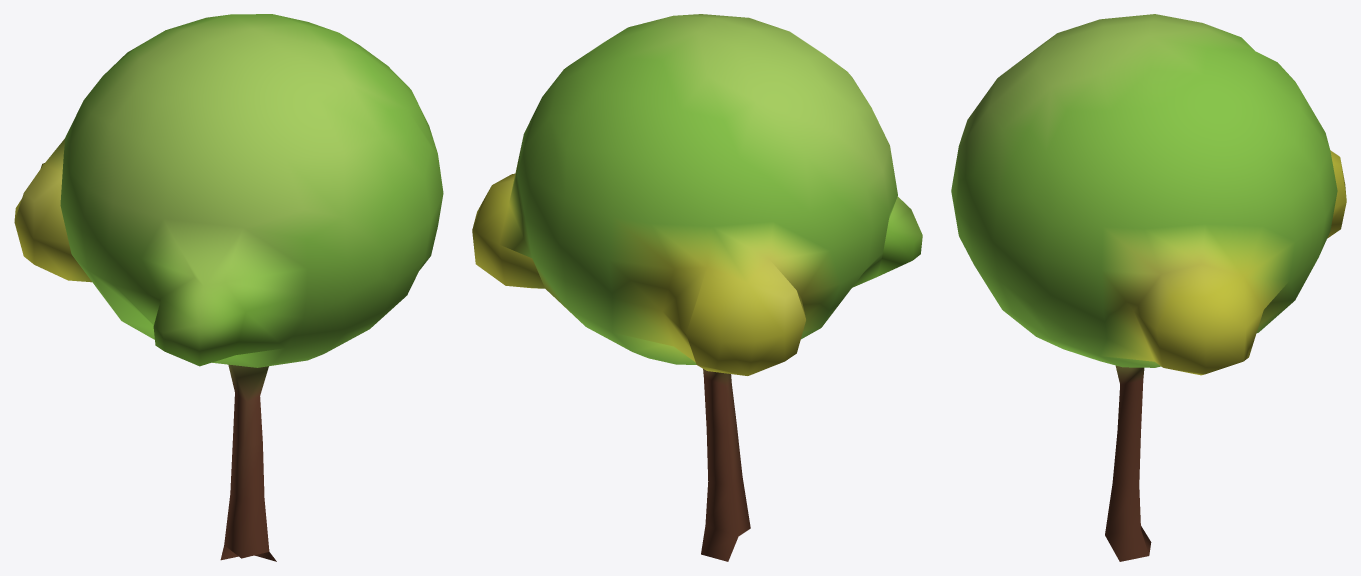
Rendered from lollipop-tree-101-lod3.obj.
3 views of the same model, side by side, from view 1: azimuth 30°, elevation 25°; view 2: azimuth 150°, elevation 25°; view 3: azimuth 270°, elevation 25° (orthographic).
Visible parts, largest first — view 1: simplified; view 2: simplified; view 3: simplified.
Boxes of the visible parts, bbox=[...] form: simplified: bbox=[14, 14, 443, 561]; simplified: bbox=[472, 14, 922, 561]; simplified: bbox=[951, 14, 1346, 561].
Bounding box in the file's own units: 356 × 486 × 334.
